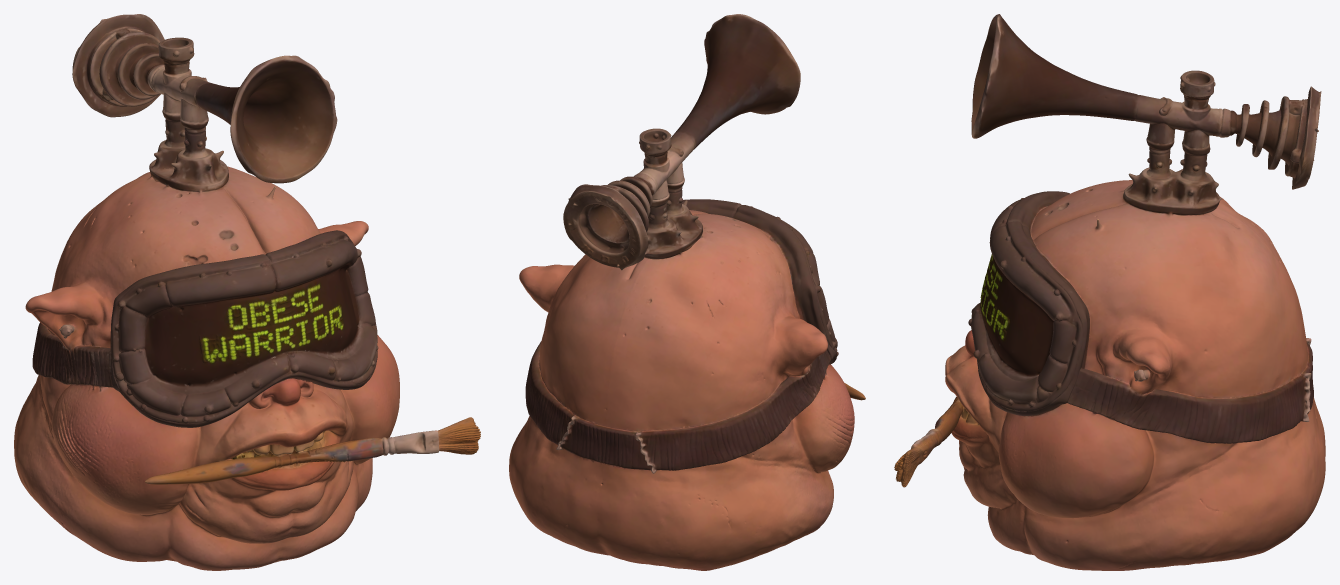
File: obesewarrior.glb
3 renders of one model, left to right at view 1: azimuth 30°, elevation 25°; view 2: azimuth 150°, elevation 25°; view 3: azimuth 270°, elevation 25°, orthographic. The views are drawn at different scales.
Visible parts, largest first — view 1: tripo_node_237d2d01-8eed-4e6b-be14-3ce18c206fbe; view 2: tripo_node_237d2d01-8eed-4e6b-be14-3ce18c206fbe; view 3: tripo_node_237d2d01-8eed-4e6b-be14-3ce18c206fbe.
Boxes of the visible parts, box(x1,y1,x2,y2) form: tripo_node_237d2d01-8eed-4e6b-be14-3ce18c206fbe: box(14, 14, 480, 570); tripo_node_237d2d01-8eed-4e6b-be14-3ce18c206fbe: box(509, 14, 865, 570); tripo_node_237d2d01-8eed-4e6b-be14-3ce18c206fbe: box(894, 14, 1325, 570).
Bounding box in the file's own units: 1.49 × 2.12 × 1.65.
2 materials, 2 textured.
